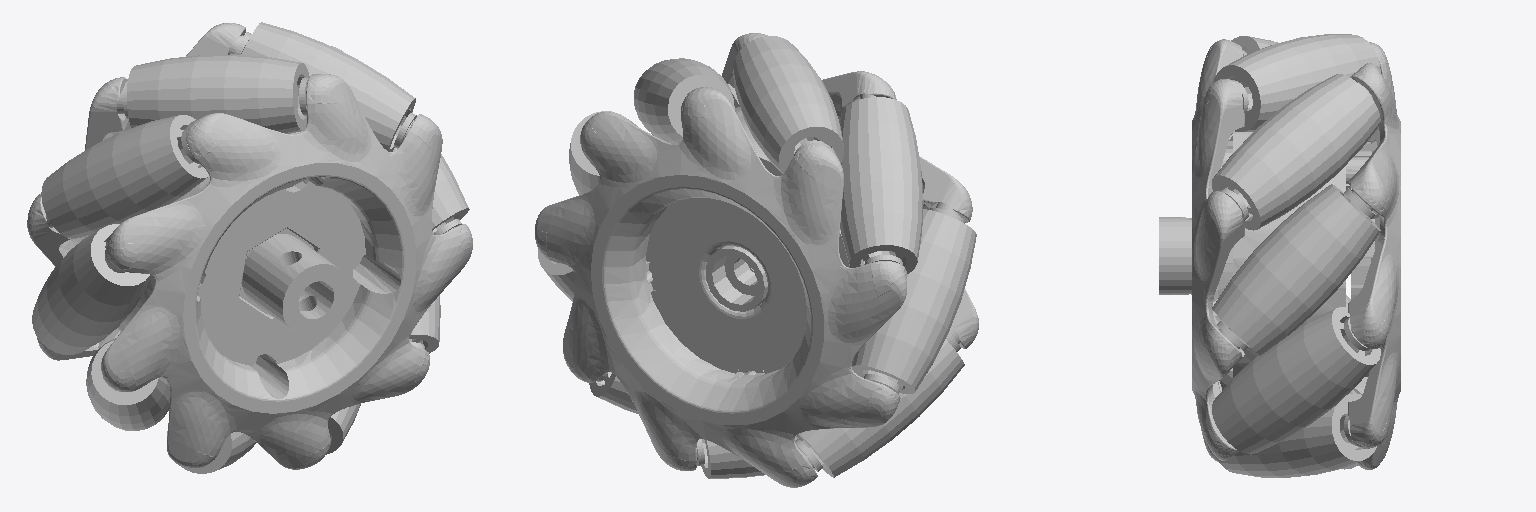
Rendered from back_left_wheel.obj.
The picture shows the model from 3 angles: view 1: azimuth 30°, elevation 25°; view 2: azimuth 150°, elevation 25°; view 3: azimuth 270°, elevation 25°; orthographic projection.
Bounding box in the file's own units: 0.0645 × 0.0646 × 0.0352.